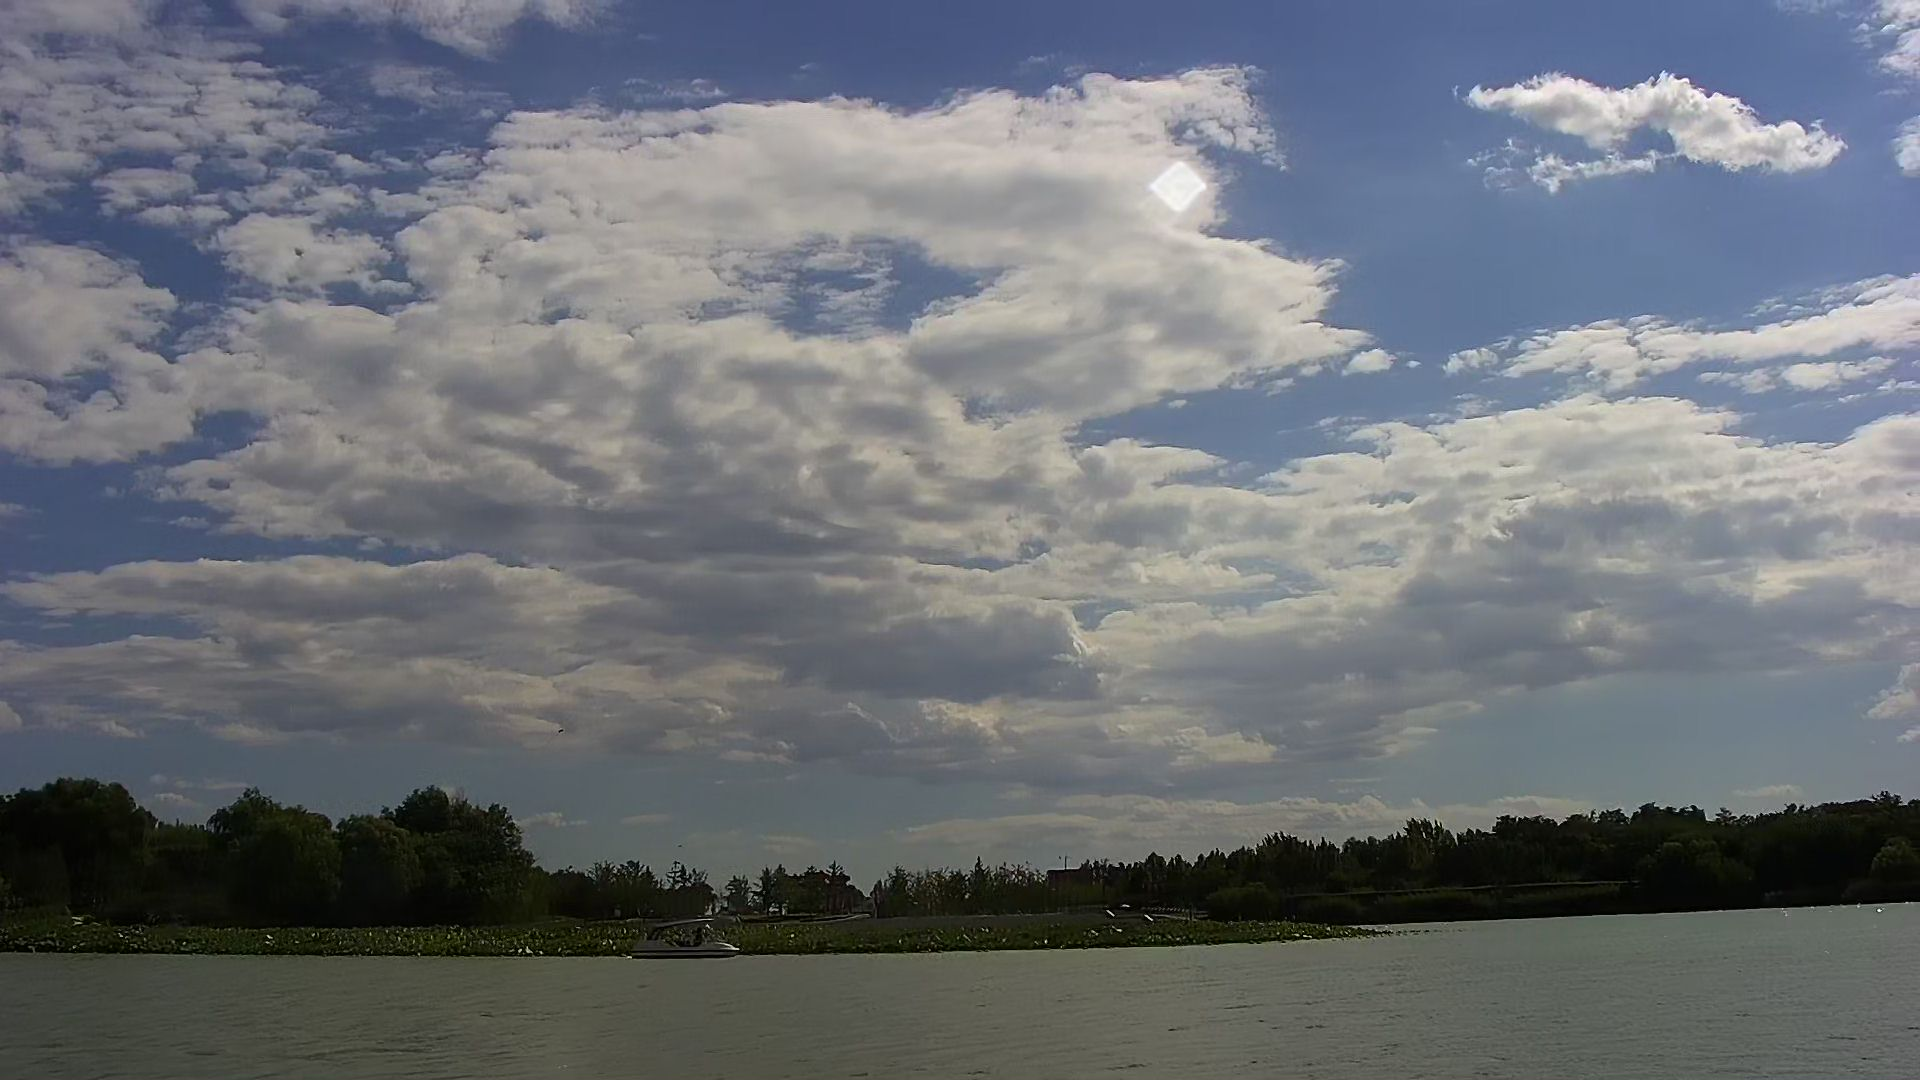boat: (626, 913, 748, 967)
